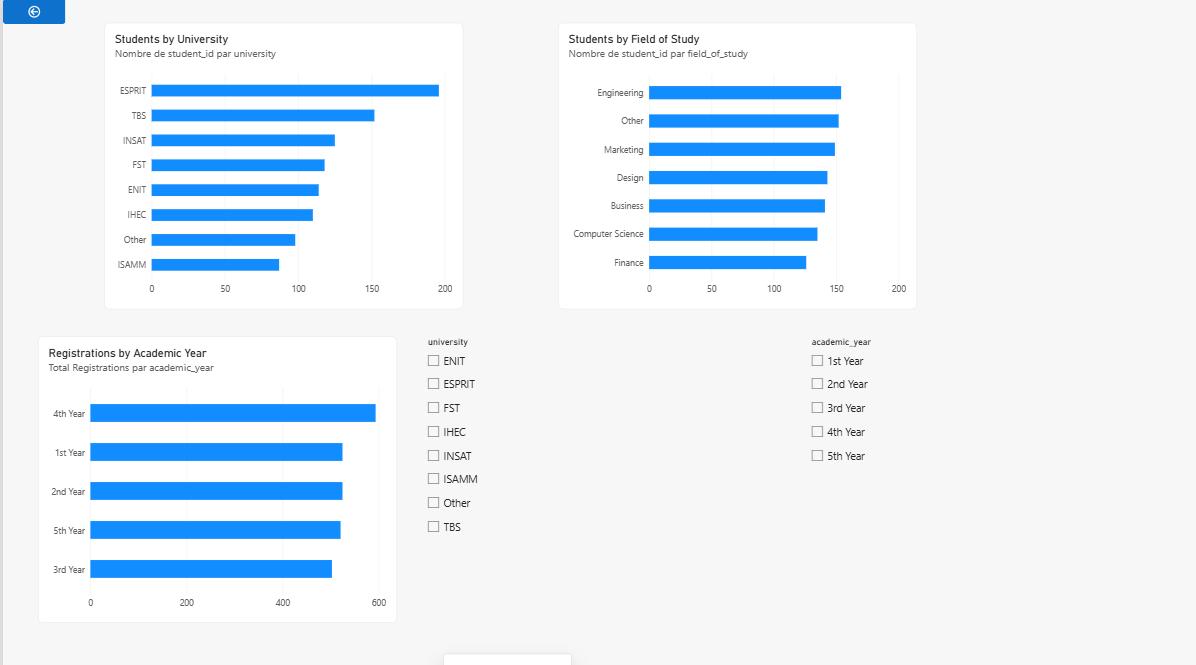

The dashboard page shown, as its layout file describes it:
{"tool":"powerbi","page":{"name":"Student Insights","canvas":[1920,1080],"ordinal":2},"visuals":[{"type":"clusteredBarChart","title":"Students by University","fields":{"Category":["public students.university"],"Y":["Count(public students.student_id)"]},"box":[162,38,574,458],"z":0},{"type":"clusteredBarChart","title":"Students by Field of Study","fields":{"Category":["public students.field_of_study"],"Y":["Count(public students.student_id)"]},"box":[888,38,574,458],"z":1000},{"type":"clusteredBarChart","title":"Registrations by Academic Year","fields":{"Category":["public students.academic_year"],"Y":["public registrations.Total Registrations"]},"box":[56,540,574,458],"z":2000},{"type":"slicer","title":"Filter by University","fields":{"Values":["public students.university"]},"box":[672,540,574,458],"z":3000},{"type":"actionButton","box":[0,0,100,40],"z":4000},{"type":"slicer","fields":{"Values":["public students.academic_year"]},"box":[1286,540,558,458],"z":5000}]}

Visuals, with their boxes in screenshot pixels (x1, y1, x2, y2), scaled from the page's 1920x1080 canvas onto the 1196x665 screenshot:
"Students by University" clusteredBarChart: l=101, t=23, r=458, b=305
"Students by Field of Study" clusteredBarChart: l=553, t=23, r=911, b=305
"Registrations by Academic Year" clusteredBarChart: l=35, t=332, r=392, b=615
"Filter by University" slicer: l=419, t=332, r=776, b=615
actionButton: l=0, t=0, r=62, b=25
slicer - public students.academic_year: l=801, t=332, r=1149, b=615
